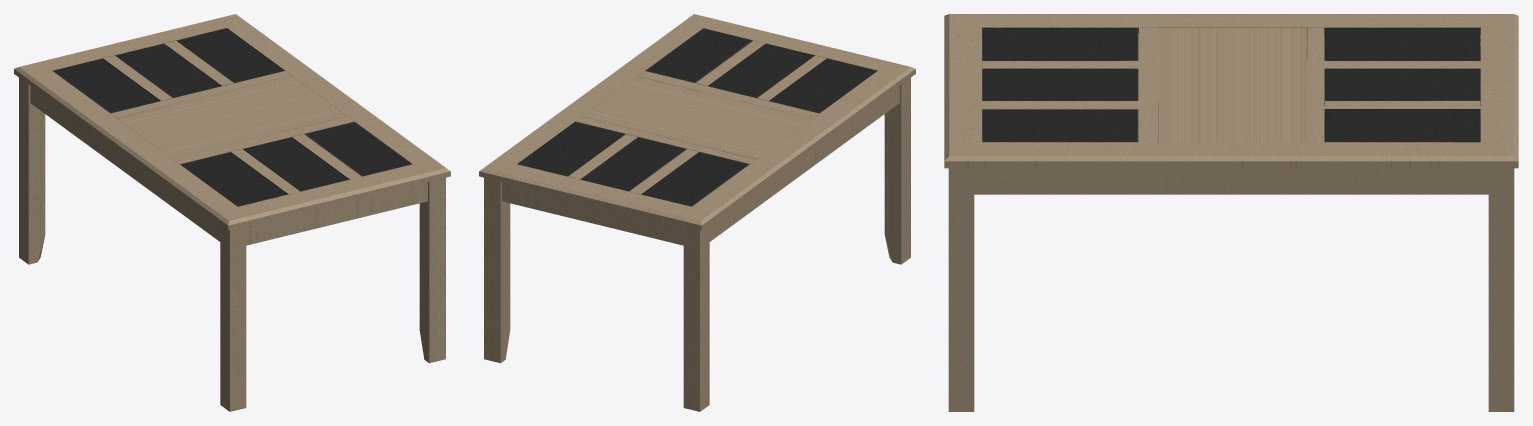
File: Table.glb
3 views of the same model, side by side, from view 1: azimuth 30°, elevation 25°; view 2: azimuth 150°, elevation 25°; view 3: azimuth 270°, elevation 25° (orthographic). The views are drawn at different scales.
Visible parts, largest first — view 1: combined_Baked_geometry; view 2: combined_Baked_geometry; view 3: combined_Baked_geometry.
Part boxes in pixels (box(x1,y1,x2,y2)): combined_Baked_geometry: box(14, 14, 450, 411); combined_Baked_geometry: box(479, 14, 915, 411); combined_Baked_geometry: box(944, 14, 1518, 411).
Bounding box in the file's own units: 0.8998 × 0.7381 × 1.5.
1 material, 1 textured.
